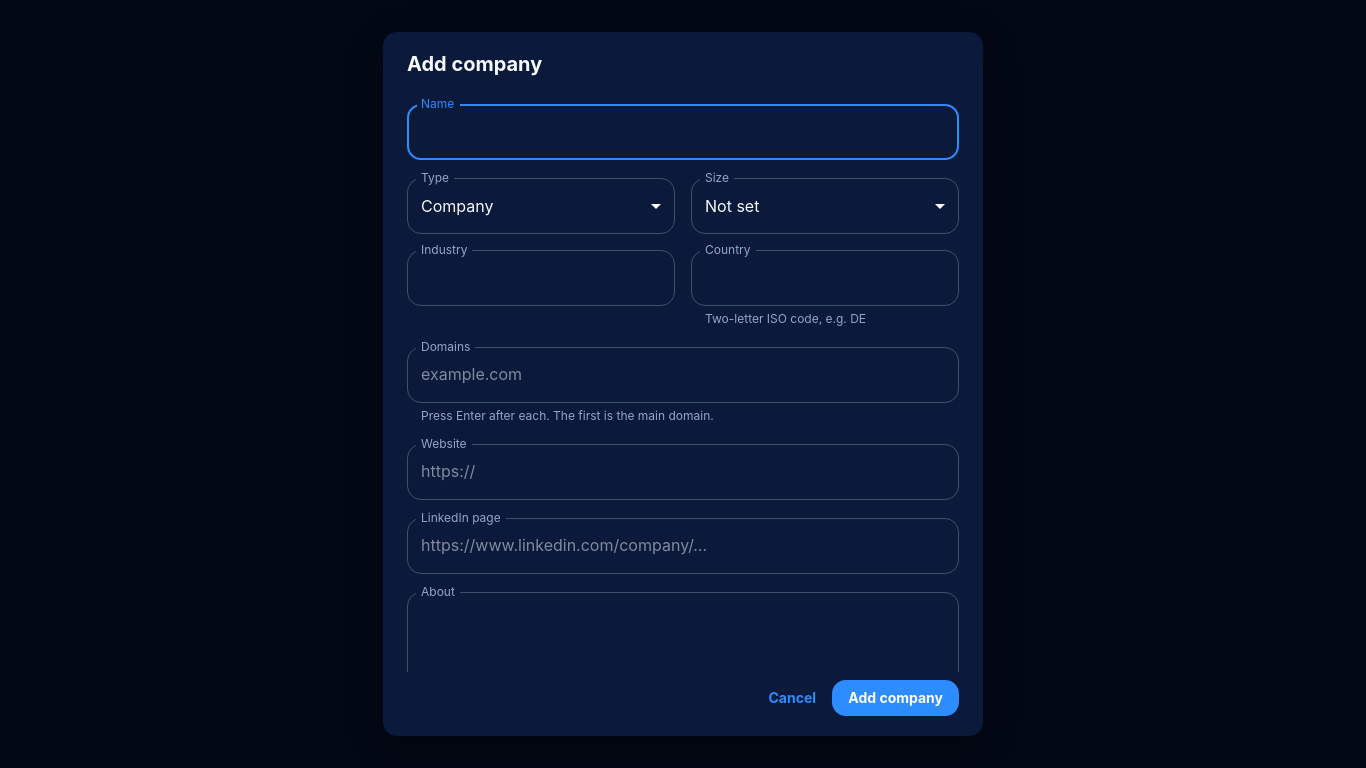
OrganizationFormDialog › rejects an invalid website before sending
Type "Bluewave" into the field labelled "Name" at (683, 132), box [407, 104, 959, 160]
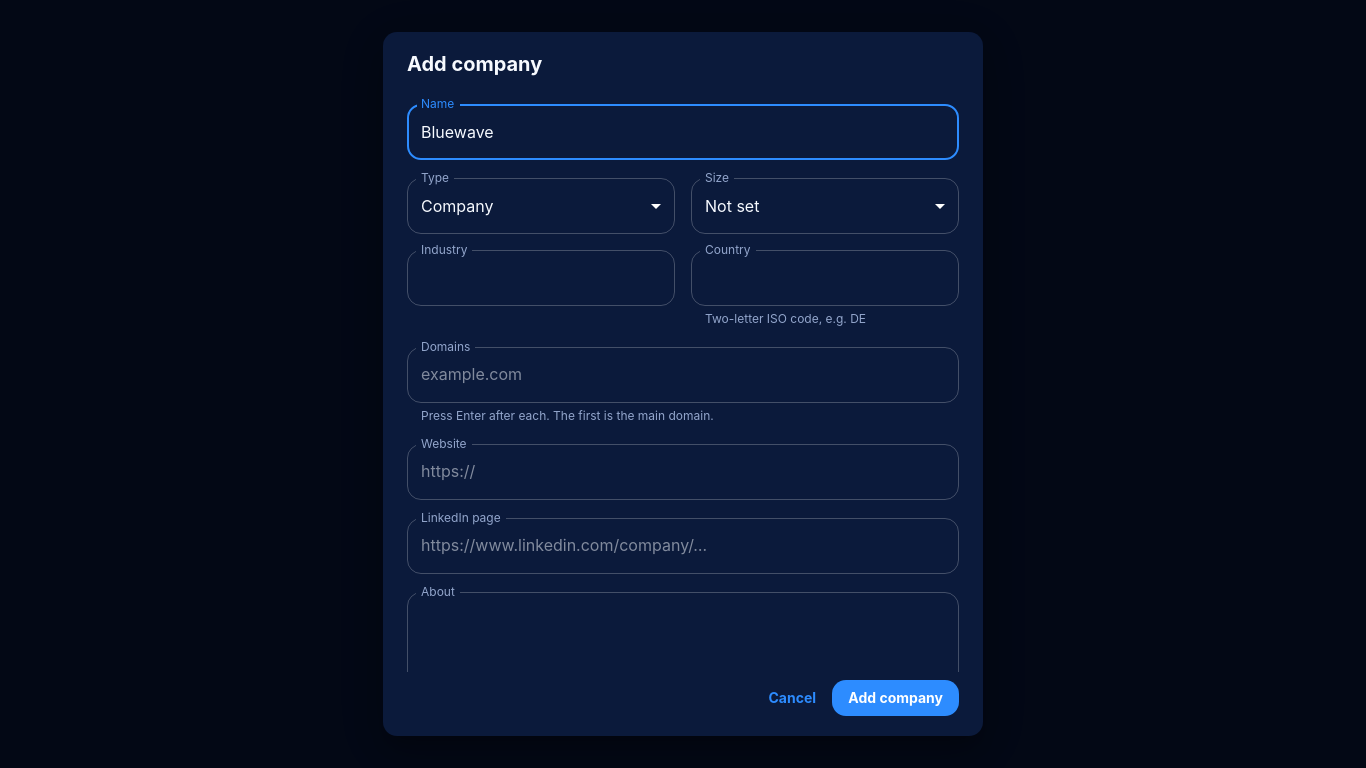
Type "not a url" into the field labelled "Website" at (683, 472), box [407, 444, 959, 500]
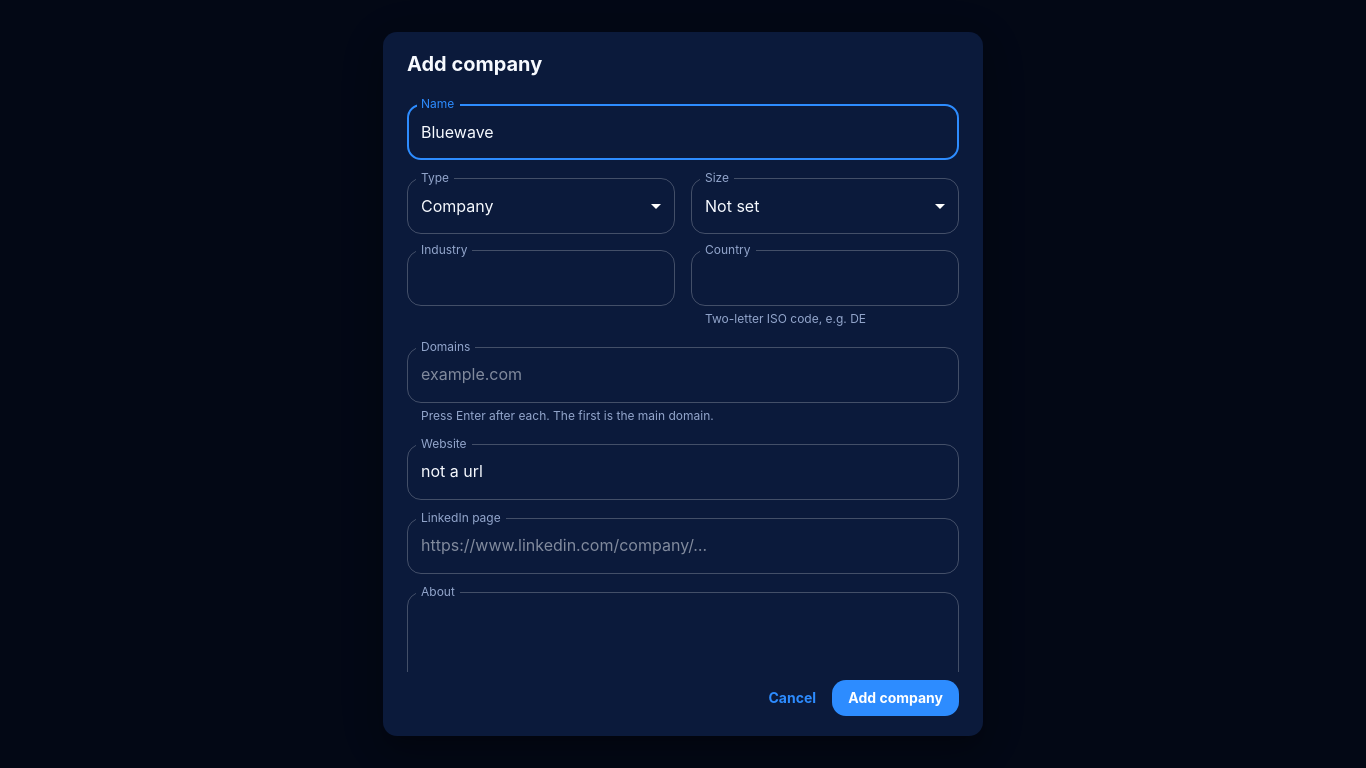
Click the button "Add company" at (896, 698), box [832, 680, 959, 716]
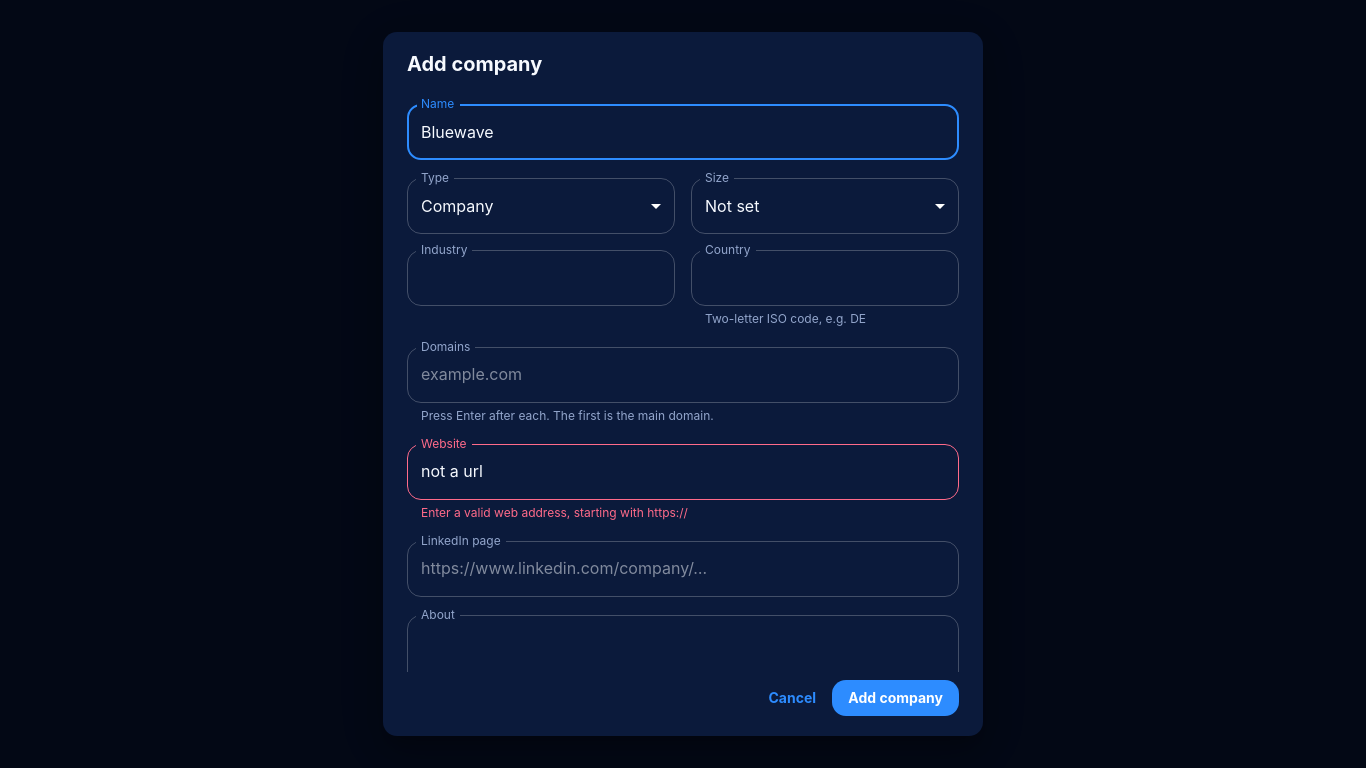
Check: the text "Enter a valid web address, starting with https://" is shown, box [421, 505, 688, 520]
